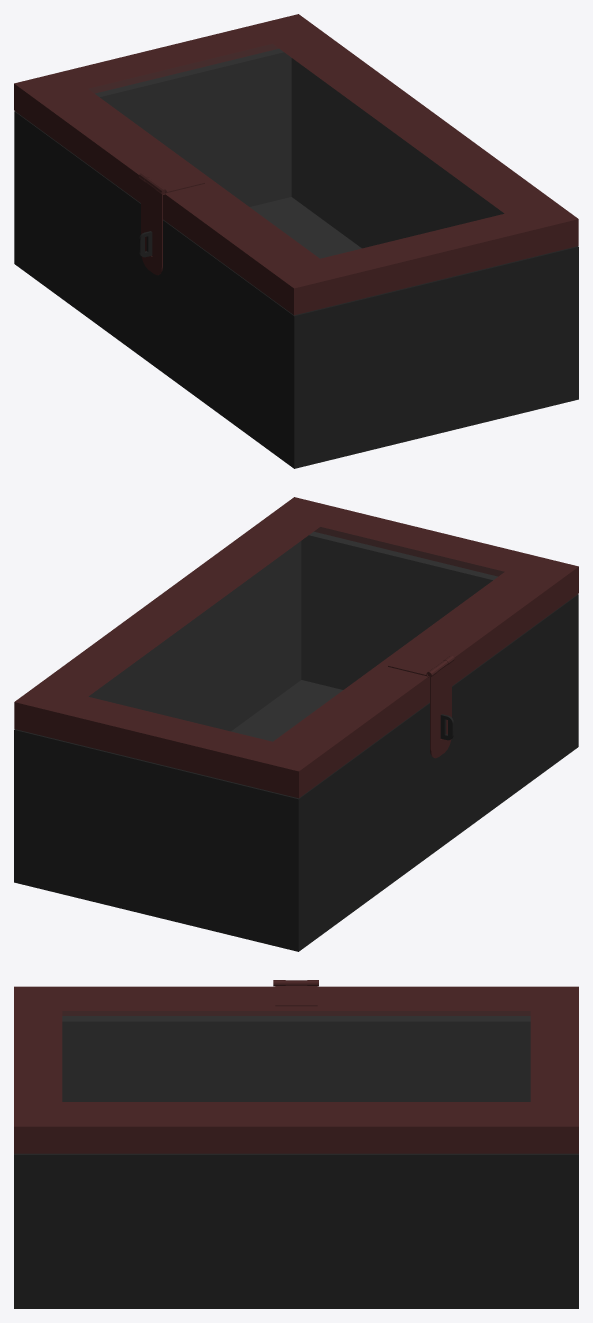
The model's file is SyringeBox.fbx.
The picture shows the model from 3 angles, top to bottom: view 1: azimuth 30°, elevation 25°; view 2: azimuth 150°, elevation 25°; view 3: azimuth 270°, elevation 25°; orthographic projection.
Visible parts, largest first — view 1: Metal_box:pCube120, Metal_box:pCube119; view 2: Metal_box:pCube120, Metal_box:pCube119; view 3: Metal_box:pCube120, Metal_box:pCube119.
Part boxes in pixels (left/top/right/bottom): Metal_box:pCube120: left=14, top=48, right=578, bottom=468; Metal_box:pCube119: left=14, top=14, right=578, bottom=315; Metal_box:pCube120: left=14, top=531, right=578, bottom=951; Metal_box:pCube119: left=14, top=497, right=578, bottom=798; Metal_box:pCube120: left=14, top=1016, right=578, bottom=1308; Metal_box:pCube119: left=14, top=980, right=578, bottom=1153.
Size of the model in its own units: 54.74 by 32.46 by 88.7.
